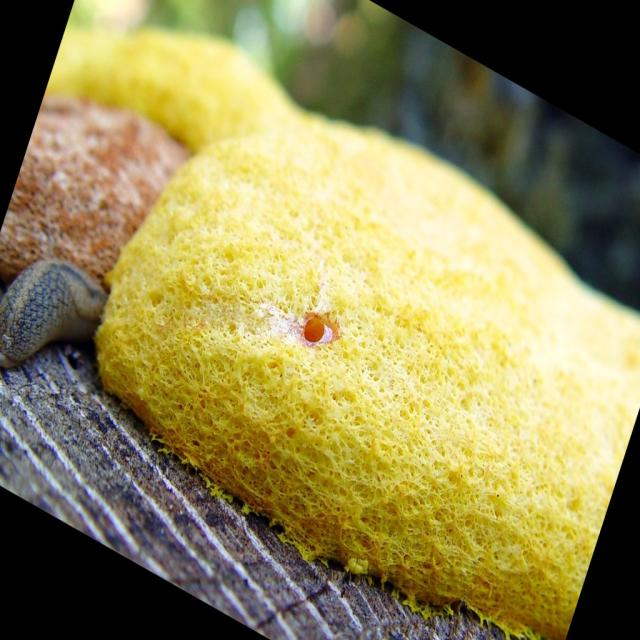Dog_vomit_slime_mold: (52, 6, 640, 622)
